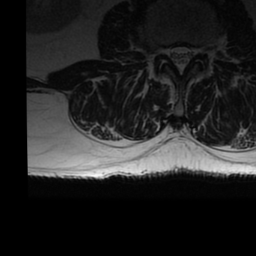CCS_normal: (176, 36, 184, 80)
LFS_stenosis: (194, 40, 203, 63)
LLS_normal: (185, 41, 193, 68)
RFS_stenosis: (160, 38, 168, 65)
RLS_normal: (168, 41, 176, 66)
